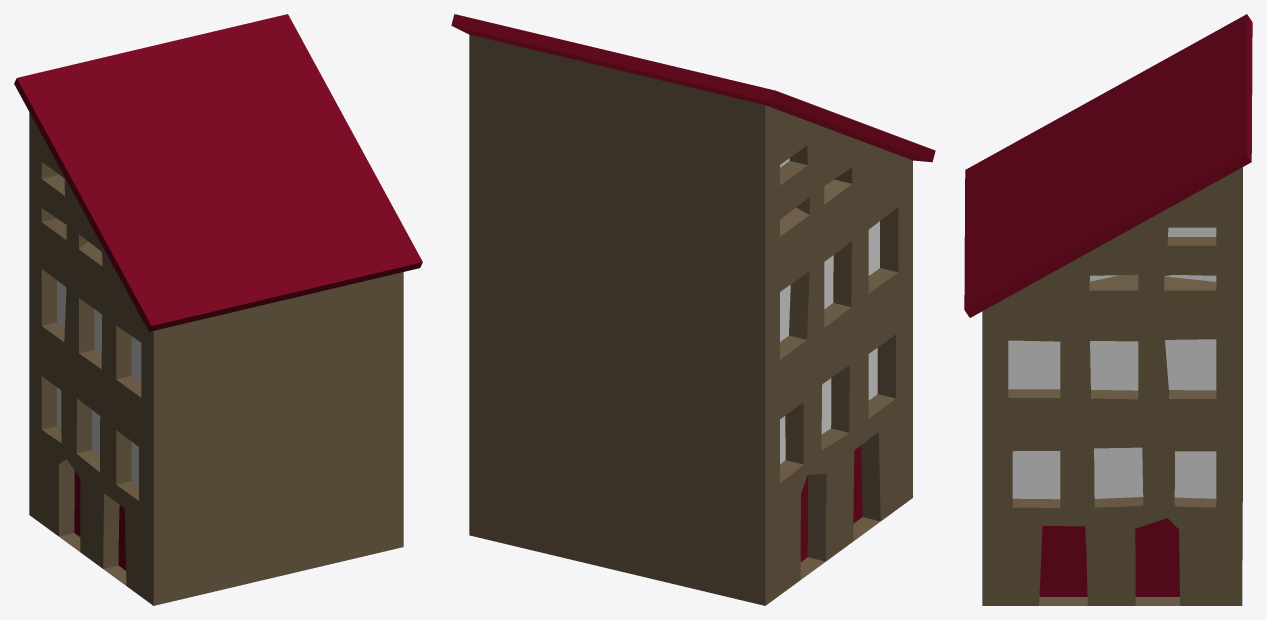
The model's file is Building1 1.fbx.
The picture shows the model from 3 angles, left to right: view 1: azimuth 30°, elevation 25°; view 2: azimuth 150°, elevation 25°; view 3: azimuth 270°, elevation 25°; orthographic projection. The views are drawn at different scales.
Parts seen in each view (by area): view 1: Grid; view 2: Grid; view 3: Grid.
Part boxes in pixels (x1,y1,x2,y2): Grid: (14,14,422,605); Grid: (451,14,935,605); Grid: (964,14,1252,605).
Bounding box in the file's own units: 402 × 624 × 355.
